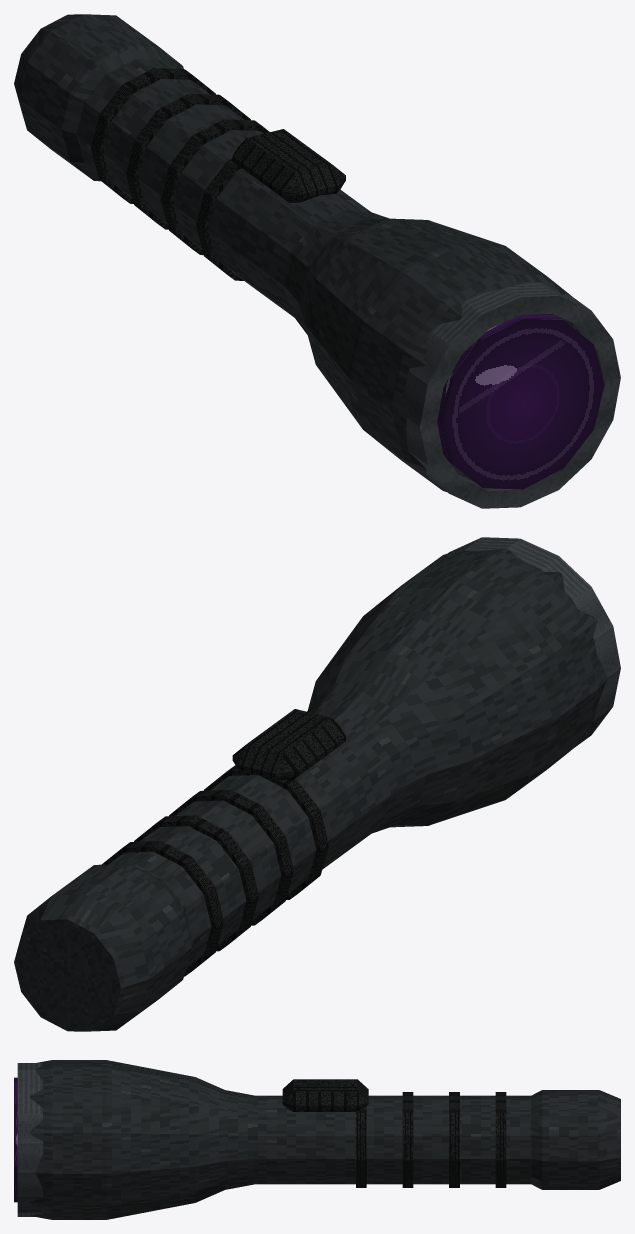
The model's file is blender_uv_light_1.glb.
3 views of the same model, one above another, from view 1: azimuth 30°, elevation 25°; view 2: azimuth 150°, elevation 25°; view 3: azimuth 270°, elevation 25° (orthographic). The views are drawn at different scales.
Visible parts, largest first — view 1: blender_uv_light_1; view 2: blender_uv_light_1; view 3: blender_uv_light_1.
Boxes of the visible parts, bbox=[...] form: blender_uv_light_1: bbox=[14, 14, 620, 508]; blender_uv_light_1: bbox=[14, 537, 620, 1031]; blender_uv_light_1: bbox=[14, 1060, 620, 1219].
Bounding box in the file's own units: 0.0448 × 0.0448 × 0.1695.
4 materials, 4 textured.
